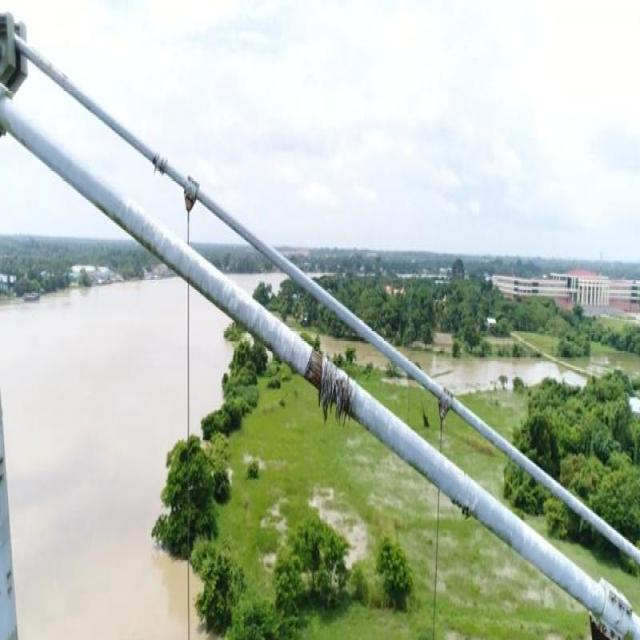corrosion: (303, 348, 354, 426), (152, 151, 168, 177), (452, 497, 471, 518), (438, 396, 448, 418), (185, 193, 193, 211), (597, 618, 606, 630), (610, 590, 616, 602), (618, 598, 624, 610), (626, 606, 631, 617), (610, 629, 614, 638), (617, 633, 622, 639)
